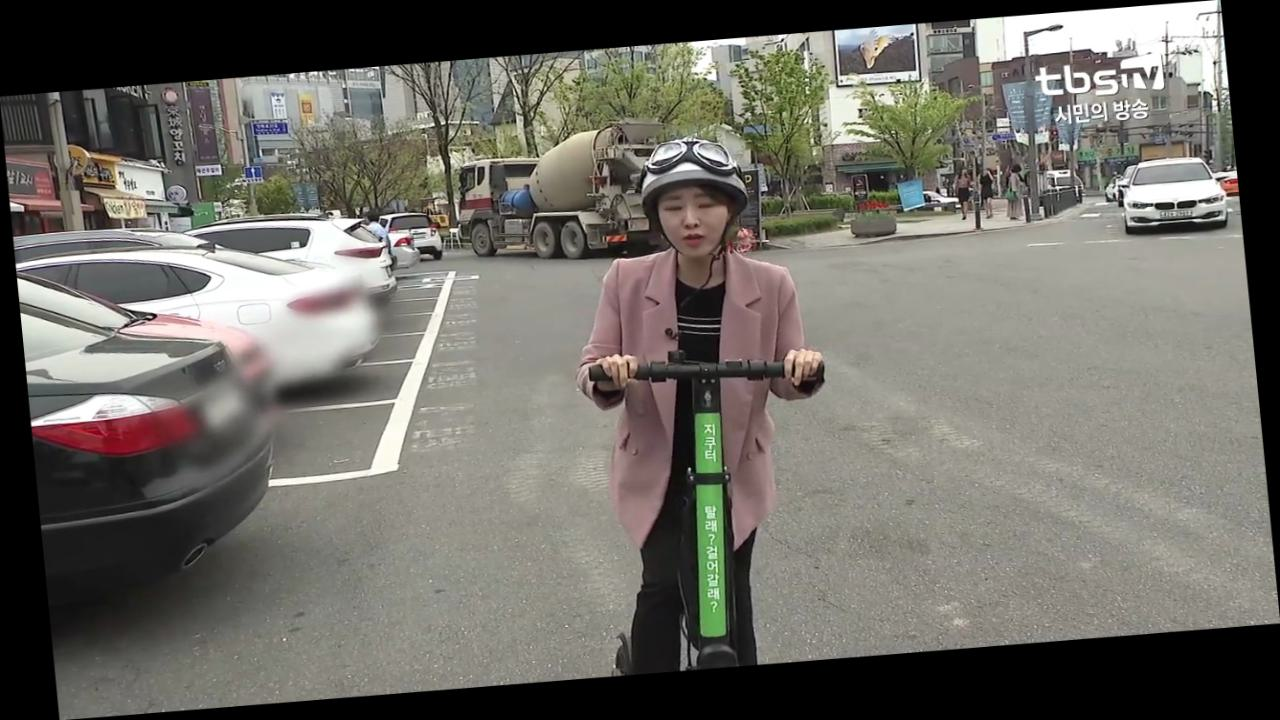helmet: (549, 125, 857, 677)
